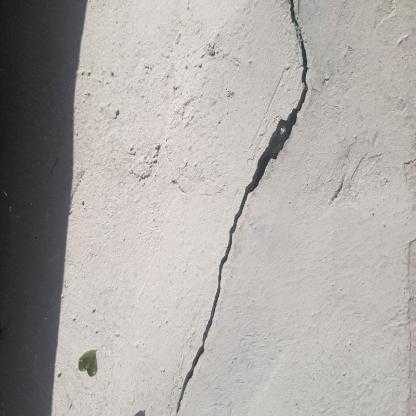crack: (176, 2, 308, 412)
